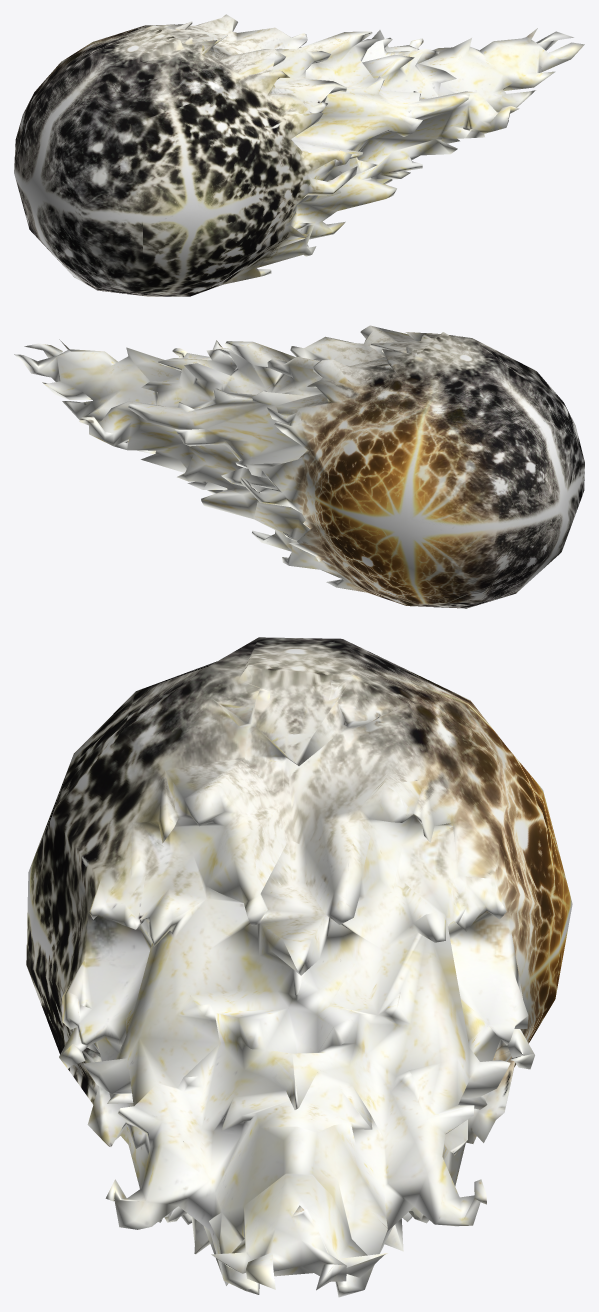
Rendered from Holy.glb.
3 views of the same model, one above another, from view 1: azimuth 30°, elevation 25°; view 2: azimuth 150°, elevation 25°; view 3: azimuth 270°, elevation 25° (orthographic). The views are drawn at different scales.
Visible parts, largest first — view 1: Mesh1.0; view 2: Mesh1.0; view 3: Mesh1.0.
Part boxes in pixels (x1,y1,x2,y2): Mesh1.0: [14, 14, 584, 296]; Mesh1.0: [14, 325, 584, 608]; Mesh1.0: [26, 637, 572, 1297].
Bounding box in the file's own units: 1.92 × 0.8557 × 0.8306.
Materials: 1 (1 with a texture image).
